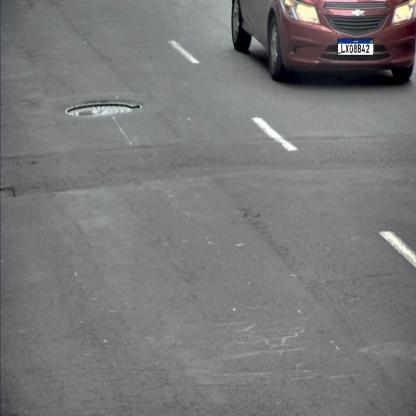PlacaM: (337, 39, 374, 55)
